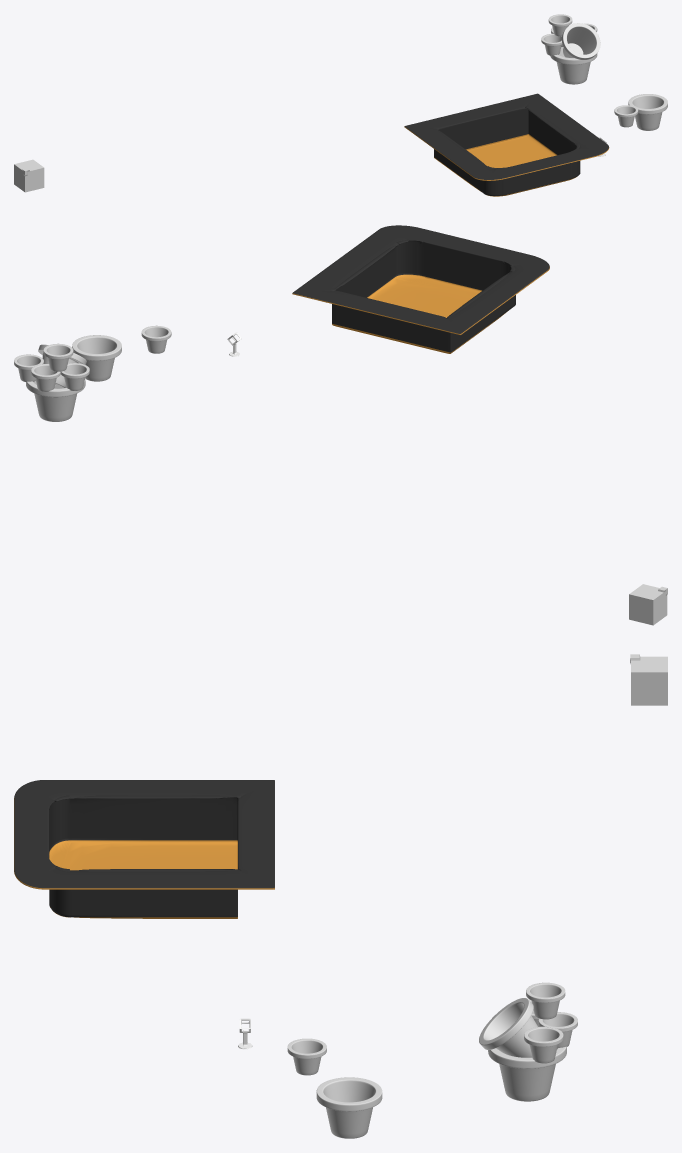
The model's file is PotII.fbx.
3 renders of one model, top to bottom at view 1: azimuth 30°, elevation 25°; view 2: azimuth 150°, elevation 25°; view 3: azimuth 270°, elevation 25°, orthographic. The views are drawn at different scales.
Parts seen in each view (by area): view 1: Cube.001, Circle.010, Circle.008, Cube.003, Circle.009; view 2: Cube.001, Circle.010, Circle.008, Cube.003, Circle.009; view 3: Cube.001, Circle.010, Circle.008, Cube.003, Circle.009.
Boxes of the visible parts, bbox=[...] form: Cube.001: bbox=[404, 93, 609, 196]; Circle.010: bbox=[541, 14, 600, 84]; Circle.008: bbox=[628, 94, 667, 130]; Cube.003: bbox=[14, 159, 44, 192]; Circle.009: bbox=[614, 105, 638, 127]; Cube.001: bbox=[292, 225, 549, 353]; Circle.010: bbox=[14, 343, 89, 421]; Circle.008: bbox=[72, 335, 121, 381]; Cube.003: bbox=[629, 584, 667, 625]; Circle.009: bbox=[141, 325, 171, 353]; Cube.001: bbox=[14, 780, 274, 918]; Circle.010: bbox=[479, 982, 577, 1101]; Circle.008: bbox=[316, 1077, 382, 1138]; Cube.003: bbox=[630, 654, 667, 705]; Circle.009: bbox=[287, 1038, 326, 1075].
Bounding box in the file's own units: 5769 × 812 × 3543.
